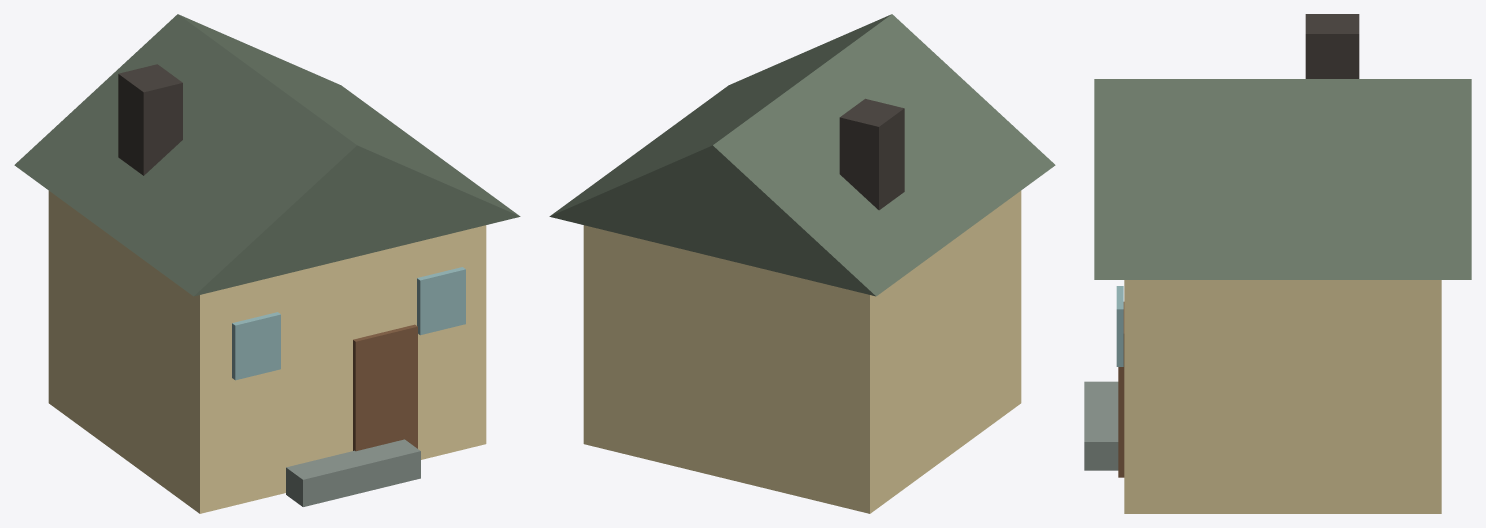
File: bld_house_c.glb
The picture shows the model from 3 angles, left to right: view 1: azimuth 30°, elevation 25°; view 2: azimuth 150°, elevation 25°; view 3: azimuth 270°, elevation 25°; orthographic projection. The views are drawn at different scales.
Parts seen in each view (by area): view 1: bld_house_c; view 2: bld_house_c; view 3: bld_house_c.
Boxes of the visible parts, bbox=[...] form: bld_house_c: bbox=[14, 14, 520, 513]; bld_house_c: bbox=[549, 14, 1055, 513]; bld_house_c: bbox=[1084, 14, 1471, 513].
Bounding box in the file's own units: 2 × 2.05 × 1.95.
Materials: 1 (1 with a texture image).
